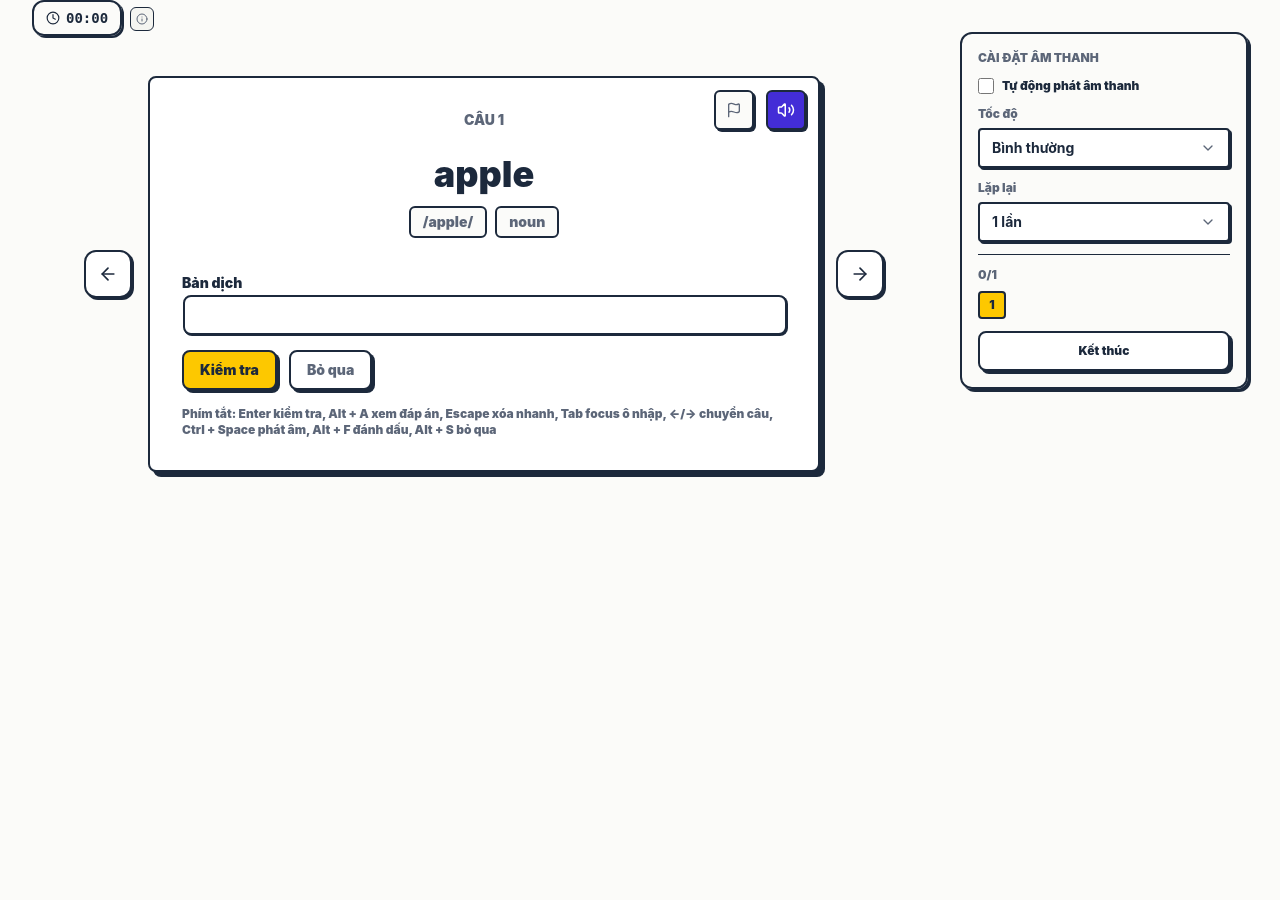
Test: QuizSessionPage › reveals the answer on request and gives no point once revealed
In the field labelled "Bản dịch": x=485, y=315 [183,295,787,335], type "chuối"
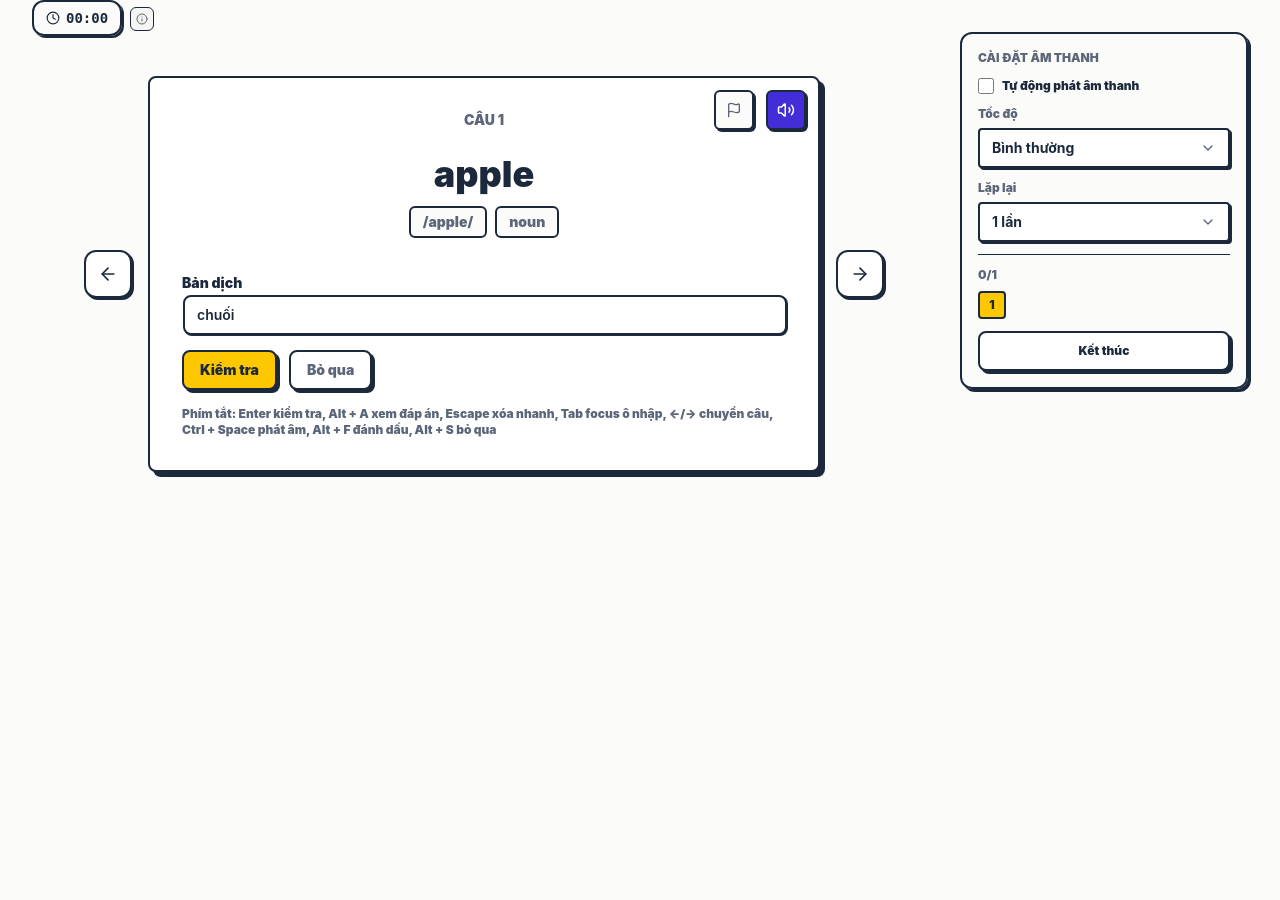
Click the button "Kiểm tra": x=229, y=370 [182,350,277,390]
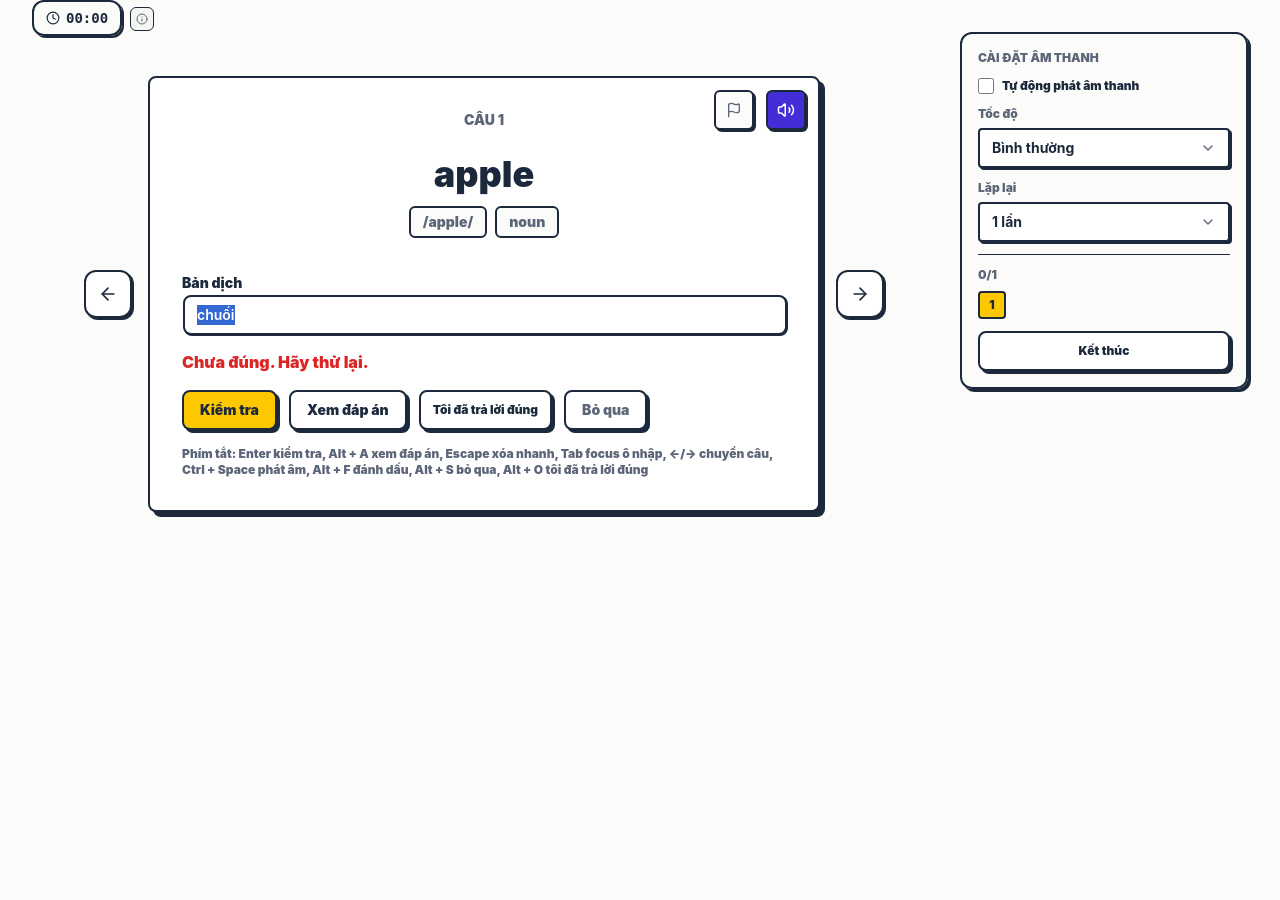
Click the button "Xem đáp án": x=348, y=410 [289,390,407,430]
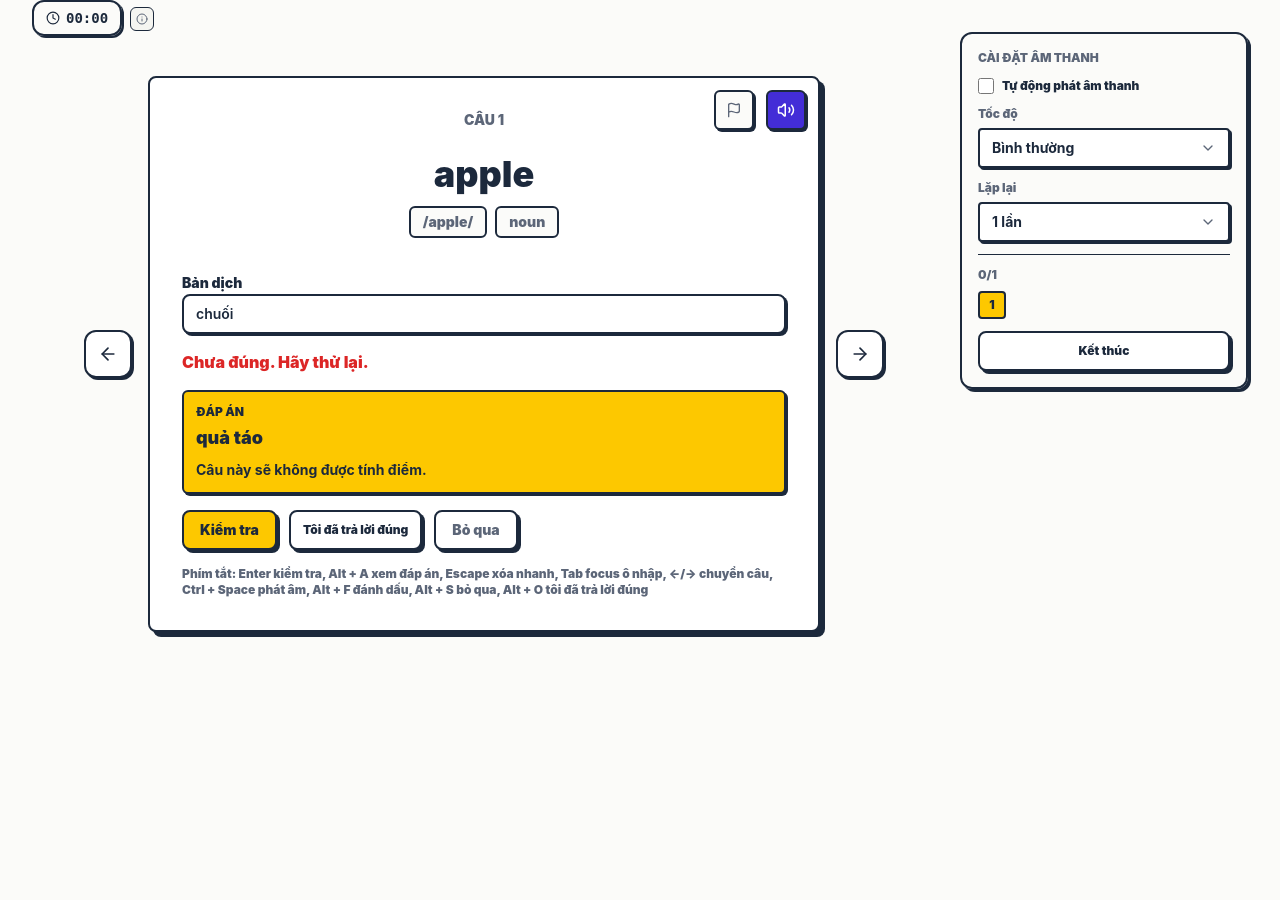
Result: the text "quả táo" is shown at [196,427,263,448]
Result: the text "Câu này sẽ không được tính điểm." is shown at [196,461,427,478]
Clear the field labelled "Bản dịch": x=484, y=314 [182,294,786,334]
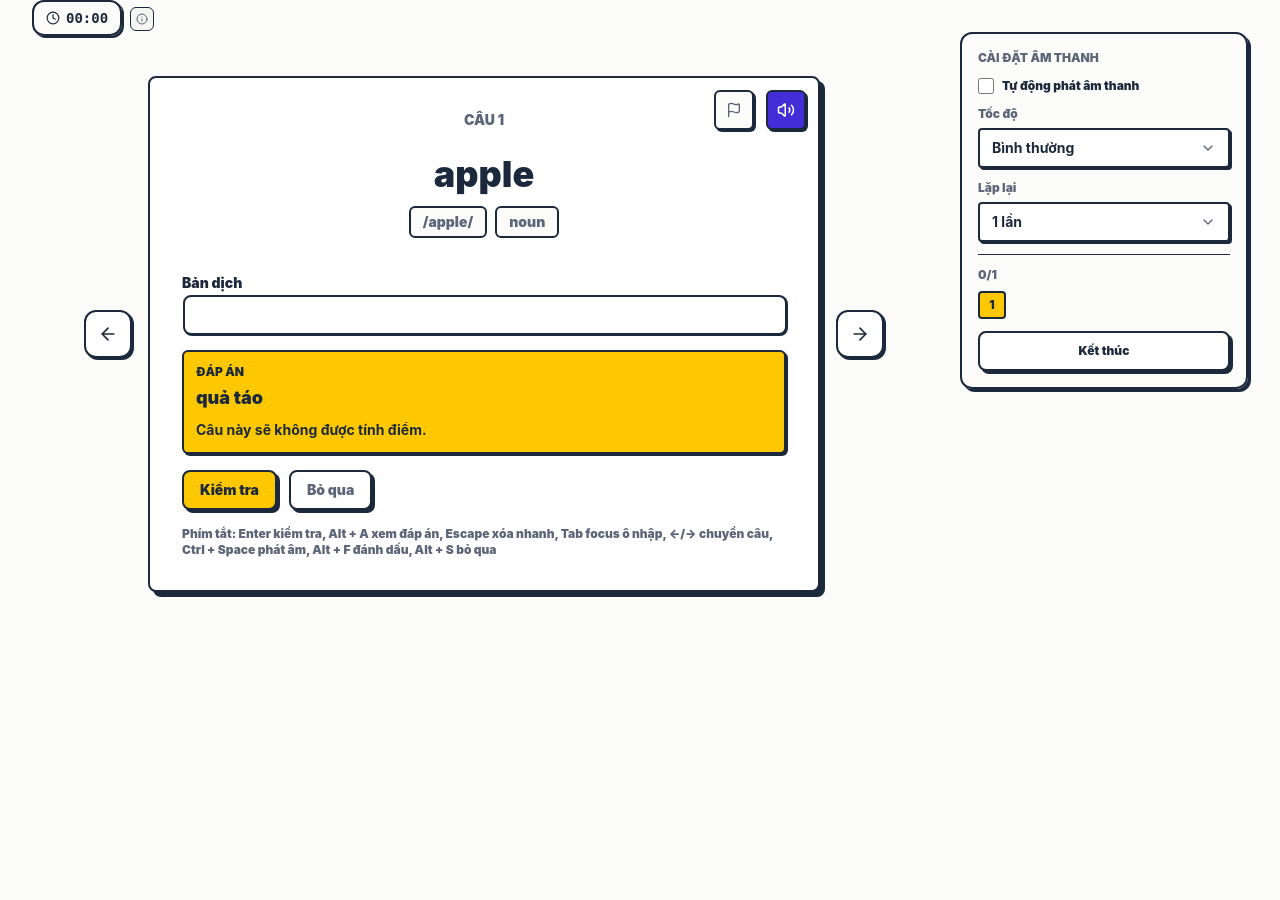
In the field labelled "Bản dịch": x=485, y=315 [183,295,787,335], type "quả táo"
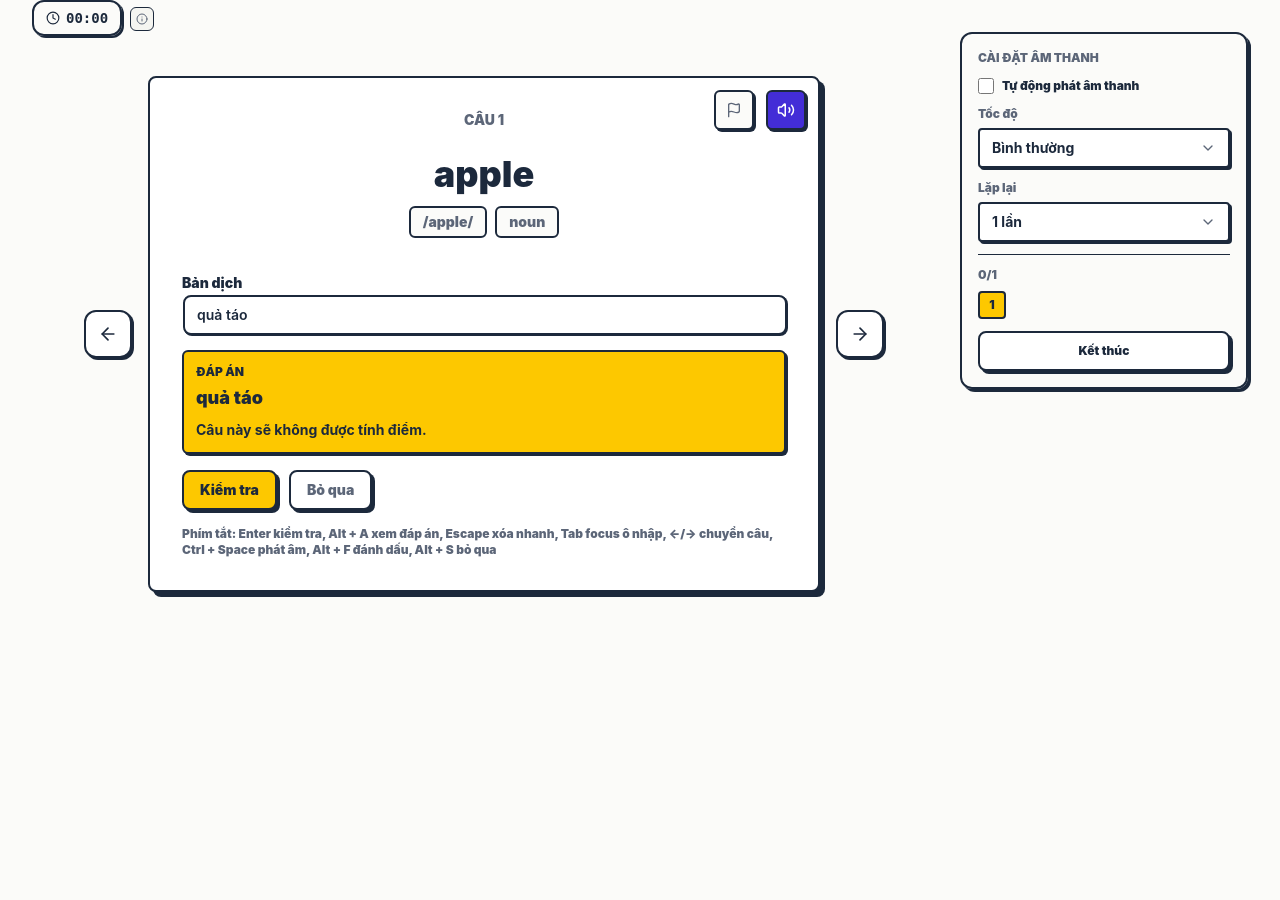
Click the button "Kiểm tra": x=229, y=490 [182,470,277,510]
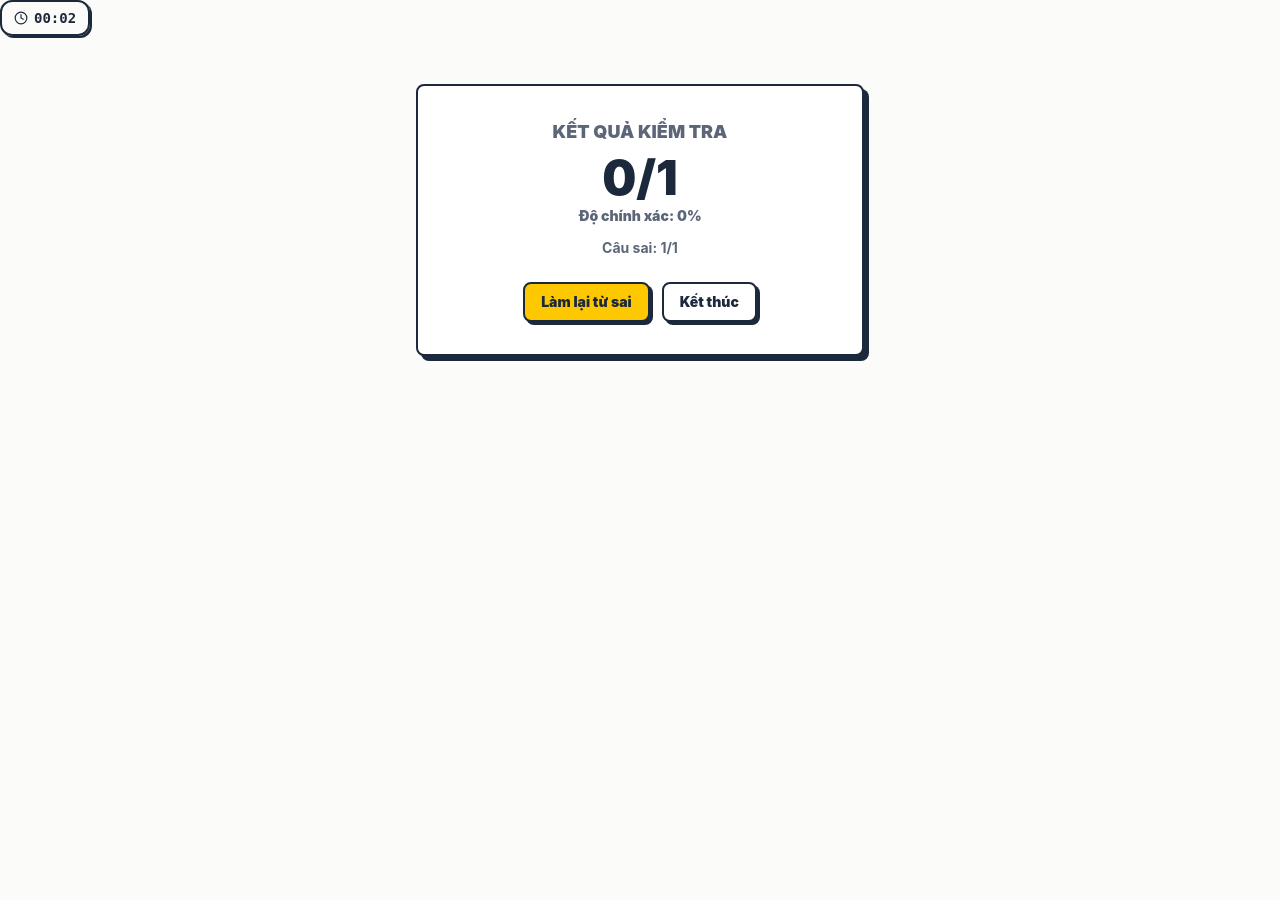
Result: the text "Kết quả kiểm tra" is shown at [553,121,727,142]
Result: the text "0/1" is shown at [602,148,678,207]
Result: the button "Làm lại từ sai" is shown at [523,282,650,322]
